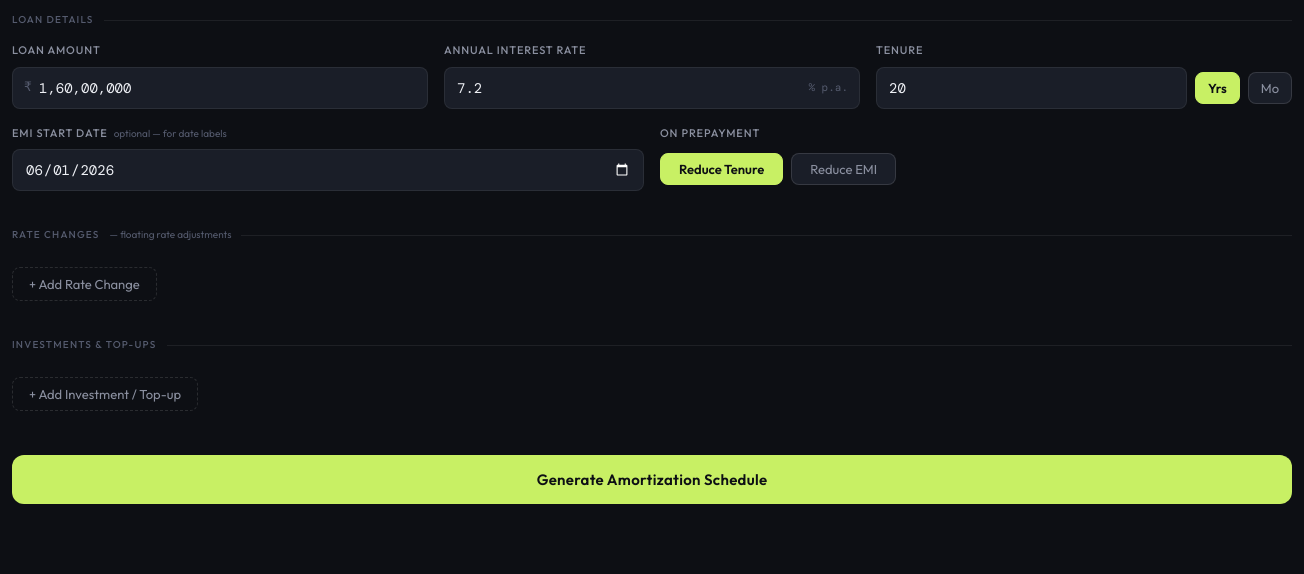
Scenario: AmortizationPage — validation › shows error when loan amount is cleared
Clear the field showing "1,60,00,000": (220, 88) [12,67,428,109]
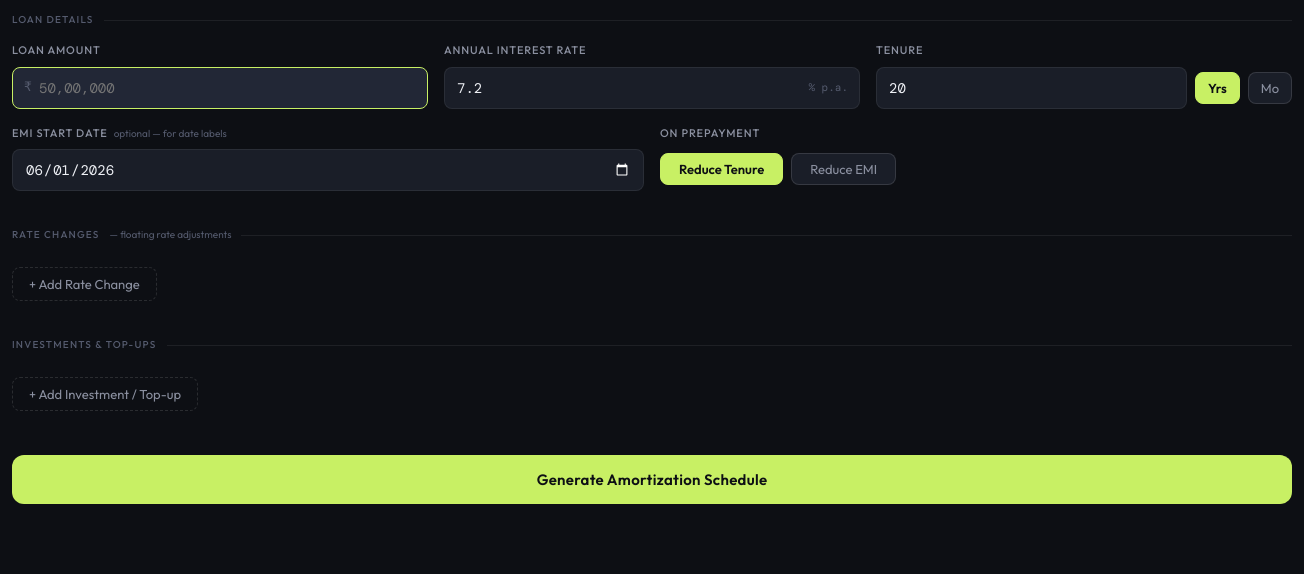
Click the button "Generate Amortization Schedule": (652, 480) [12,455,1292,504]
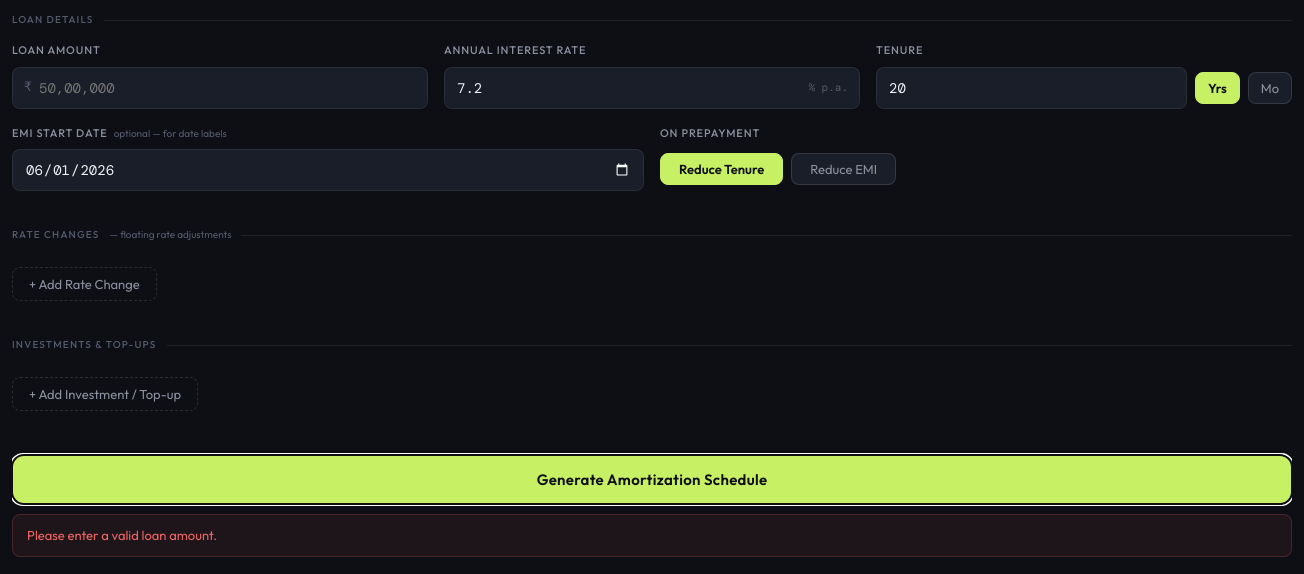
Check: the text "Please enter a valid loan amount." is shown, box [12,514,1292,557]
